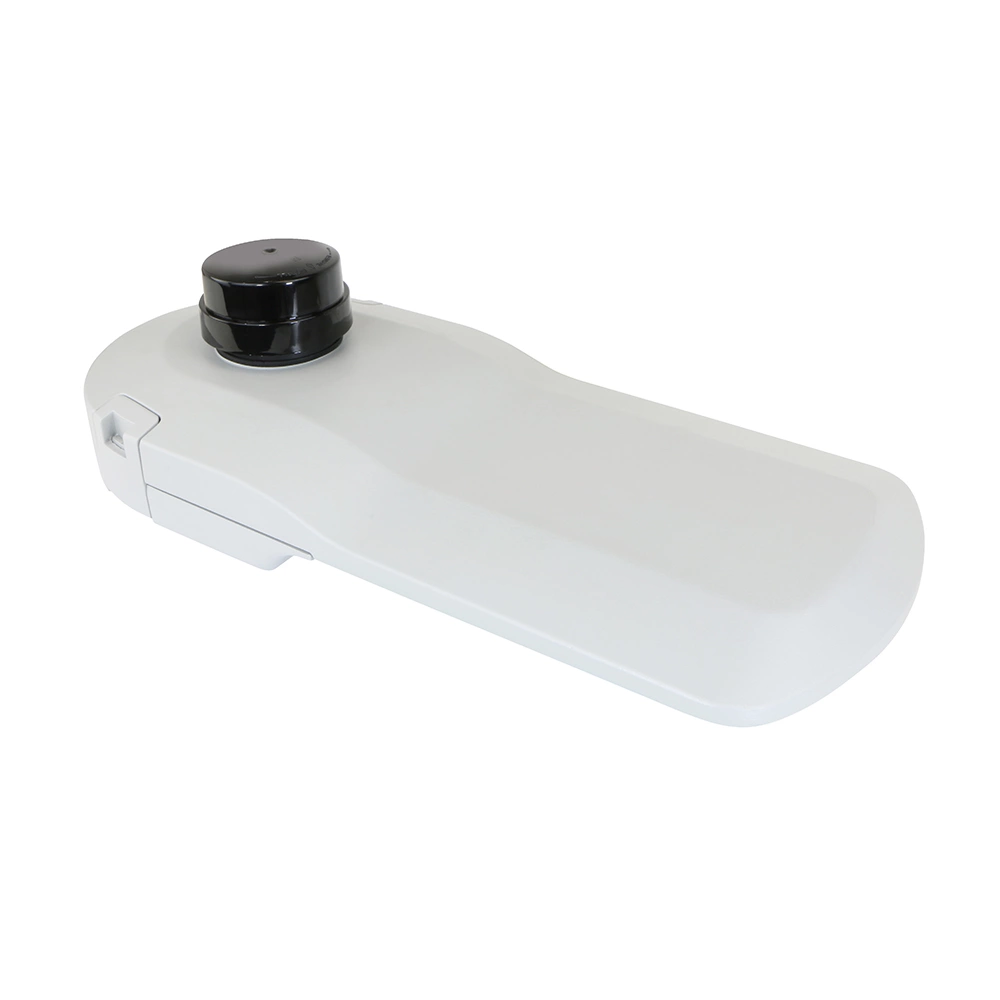Top_Street_Light: (55, 252, 936, 721)
